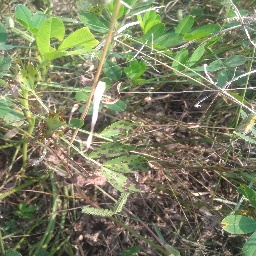GroundNut_Leaf: (38, 16, 102, 58), (99, 120, 141, 139), (103, 157, 152, 173), (219, 214, 256, 234), (89, 142, 136, 157), (16, 64, 40, 92), (190, 22, 223, 42), (103, 174, 134, 195), (145, 21, 168, 42), (103, 60, 123, 82), (224, 54, 248, 68)
